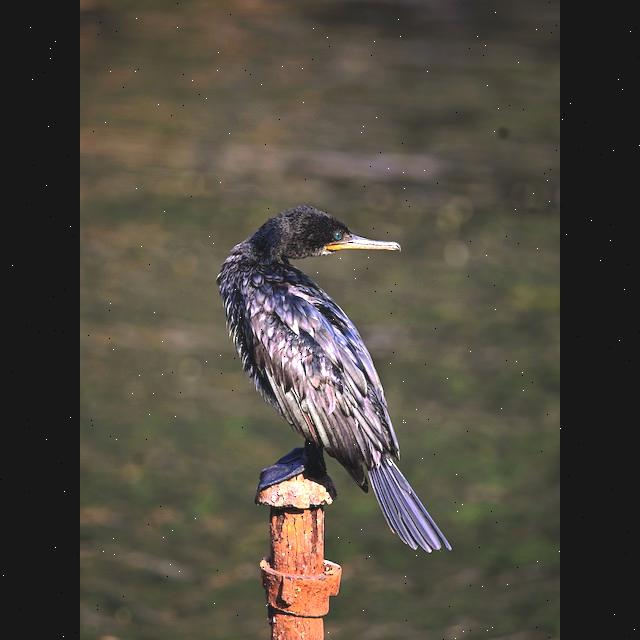cormorant: (219, 204, 449, 556)
